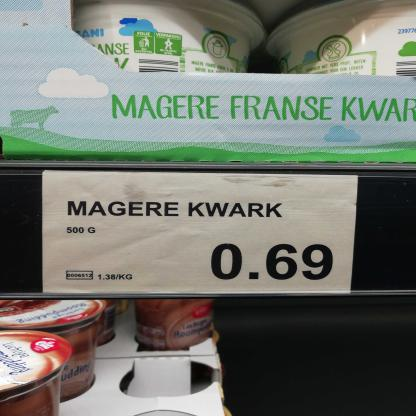prtg: (45, 174, 358, 294)
